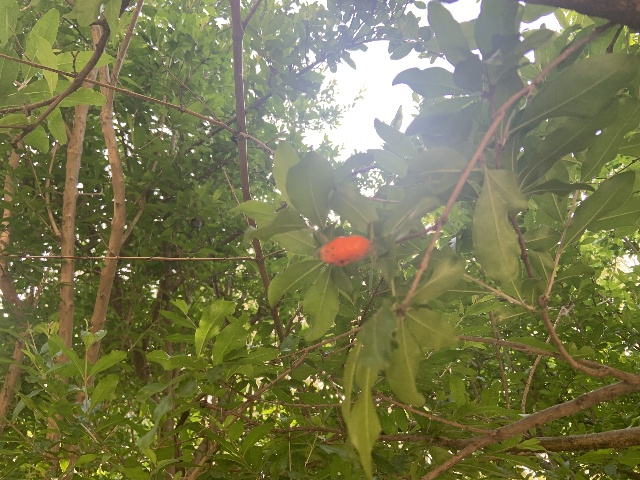bud: (319, 235, 371, 266)
